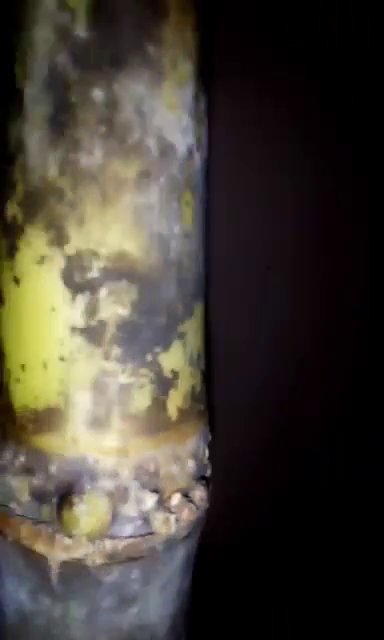cane eye: (50, 483, 122, 550)
